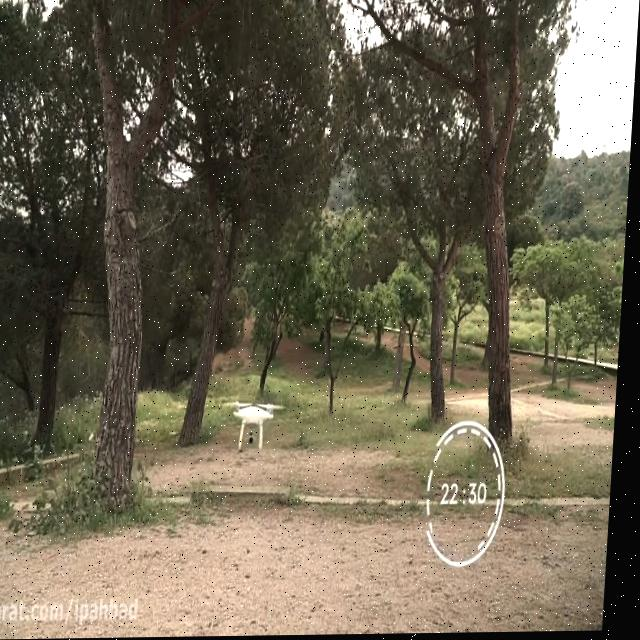drone: (223, 396, 293, 454)
